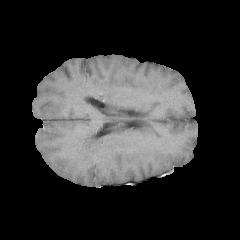glioma: (73, 126, 119, 169)
